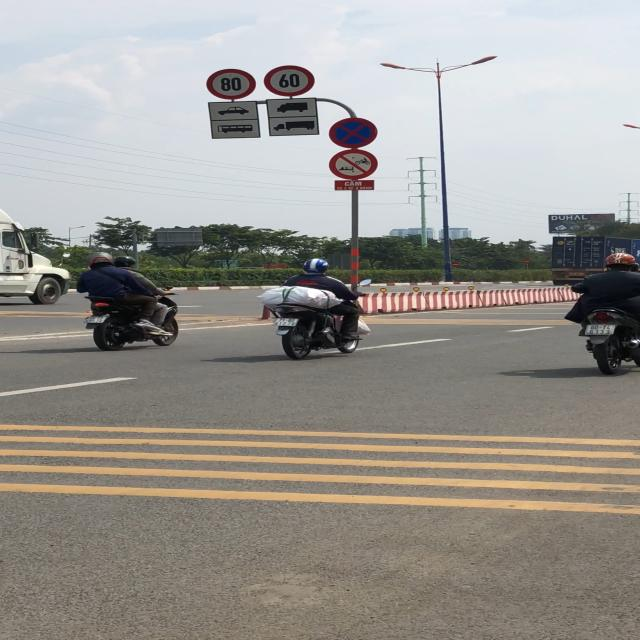Bien bao cam dung xe va do xe: (328, 116, 380, 148)
Bien bao toc do toi da cho phep: (262, 64, 318, 97), (206, 68, 259, 101)
